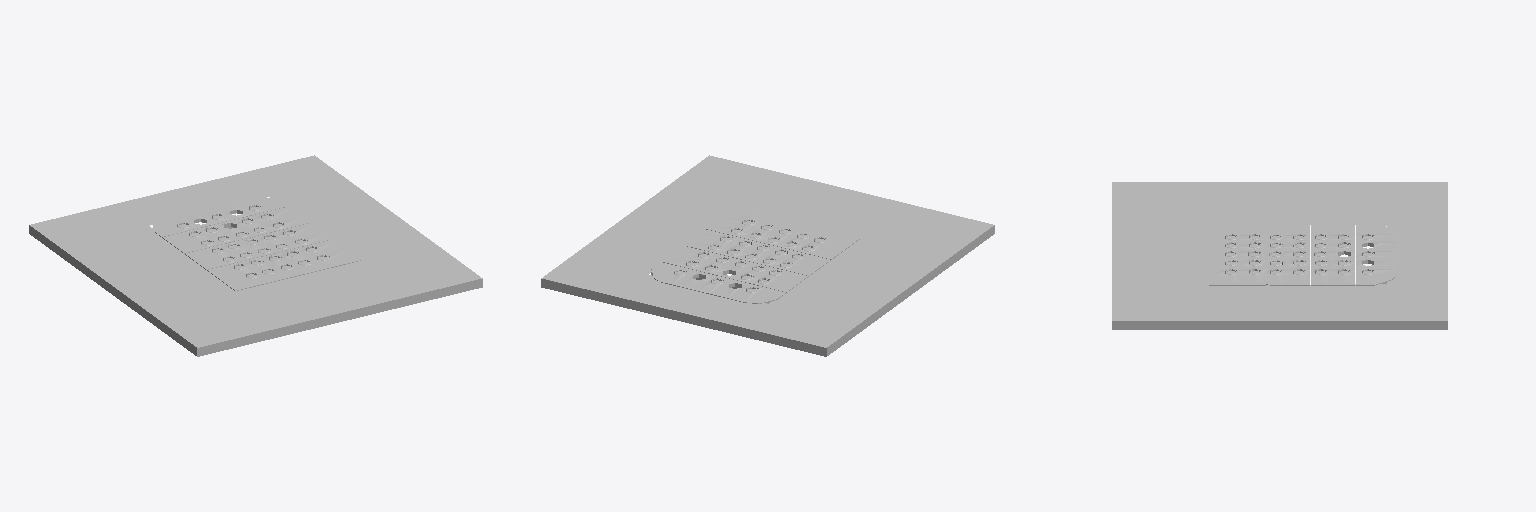
Rendered from Static_level.obj.
The picture shows the model from 3 angles: view 1: azimuth 30°, elevation 25°; view 2: azimuth 150°, elevation 25°; view 3: azimuth 270°, elevation 25°; orthographic projection.
Parts seen in each view (by area): view 1: pCube2, polySurface45, polySurface86; view 2: pCube2, polySurface45, polySurface86; view 3: pCube2, polySurface45, polySurface86.
Boxes of the visible parts, x1,y1,x2,y2 form: pCube2: [29, 155, 482, 356]; polySurface45: [153, 196, 360, 290]; polySurface86: [177, 205, 329, 278]; pCube2: [541, 155, 994, 356]; polySurface45: [651, 208, 859, 303]; polySurface86: [674, 220, 826, 292]; pCube2: [1112, 182, 1447, 329]; polySurface45: [1209, 224, 1396, 285]; polySurface86: [1225, 234, 1374, 274].
Bounding box in the file's own units: 111 × 3.87 × 113.